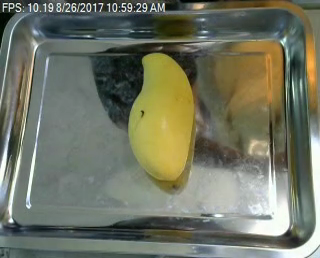Mango: (120, 52, 205, 190)
